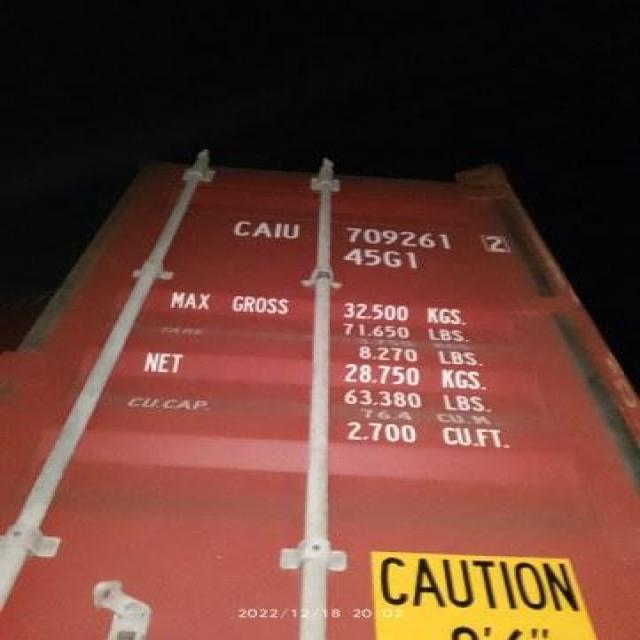container_number_h: (189, 203, 538, 283)
